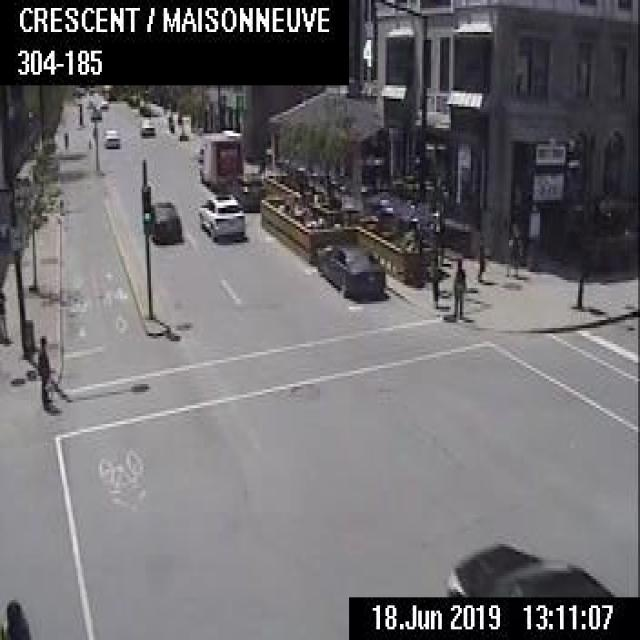pedestrian: (2, 598, 27, 638), (35, 331, 47, 408), (451, 259, 465, 320), (504, 221, 518, 275), (474, 235, 486, 280), (431, 266, 438, 306), (60, 126, 67, 150), (167, 111, 173, 131), (176, 111, 181, 129)
vehicle: (434, 541, 612, 595), (314, 243, 384, 296), (197, 128, 243, 189), (197, 191, 244, 238), (148, 197, 180, 243), (230, 171, 264, 207), (102, 127, 120, 147), (140, 117, 153, 134), (89, 105, 100, 118)
